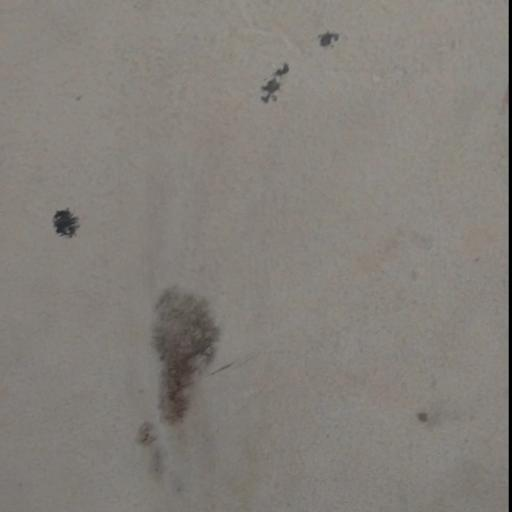stain: (114, 257, 250, 499), (365, 220, 487, 391), (445, 426, 512, 511), (240, 54, 301, 118), (32, 196, 94, 248), (407, 399, 441, 434), (309, 23, 339, 56)
